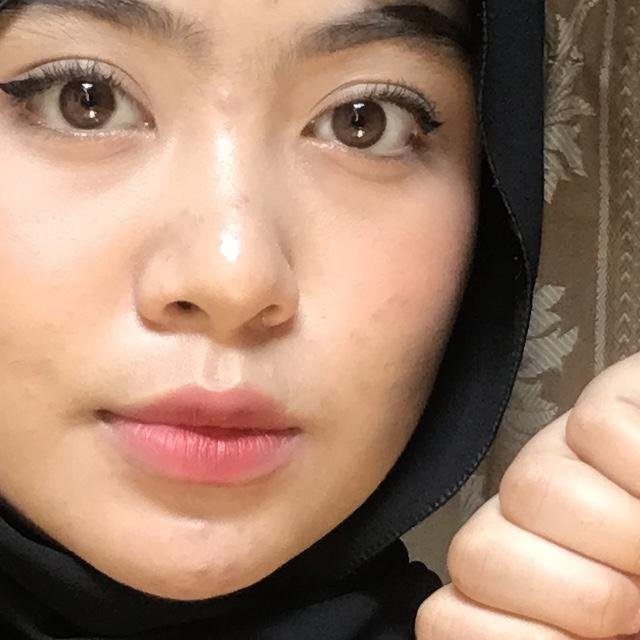sedih: (290, 236, 640, 640)
